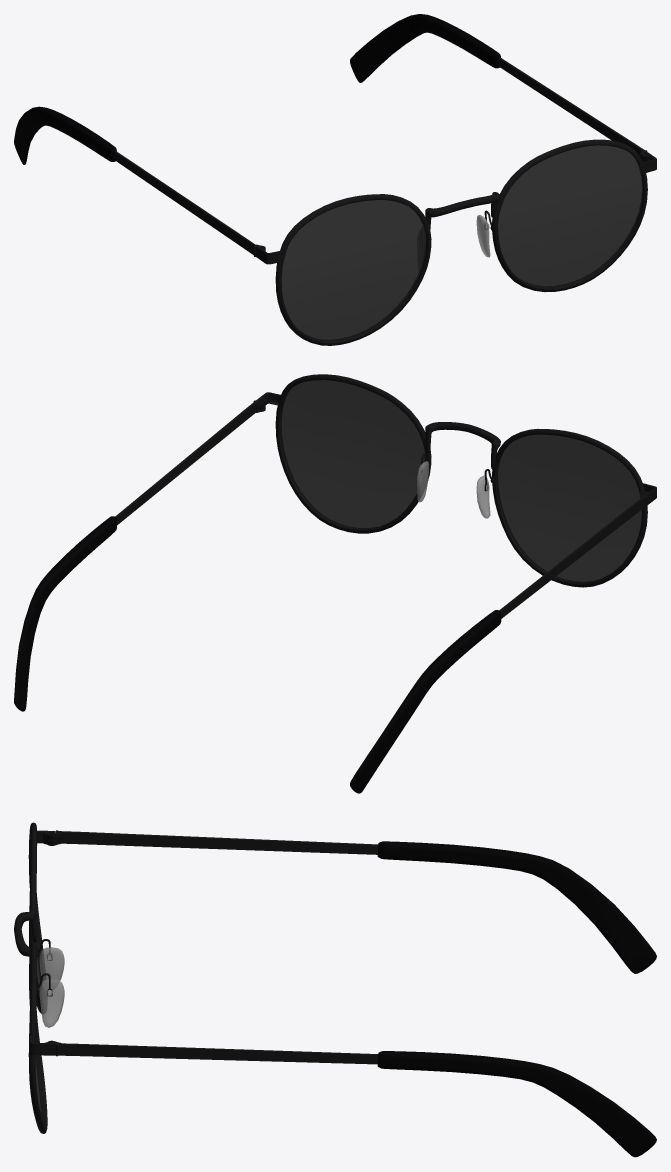
Rendered from sunglasses_Tommy_01.glb.
The picture shows the model from 3 angles, top to bottom: view 1: azimuth 30°, elevation 25°; view 2: azimuth 150°, elevation 25°; view 3: azimuth 270°, elevation 25°; orthographic projection. The views are drawn at different scales.
Visible parts, largest first — view 1: Plane_Tommy_01_0; view 2: Plane_Tommy_01_0; view 3: Plane_Tommy_01_0.
Boxes of the visible parts, left/top/right/bottom form: Plane_Tommy_01_0: left=14, top=14, right=656, bottom=345; Plane_Tommy_01_0: left=14, top=374, right=656, bottom=793; Plane_Tommy_01_0: left=14, top=822, right=656, bottom=1157.
Size of the model in its own units: 14.16 by 5.17 by 17.92.
1 material, 1 textured.
